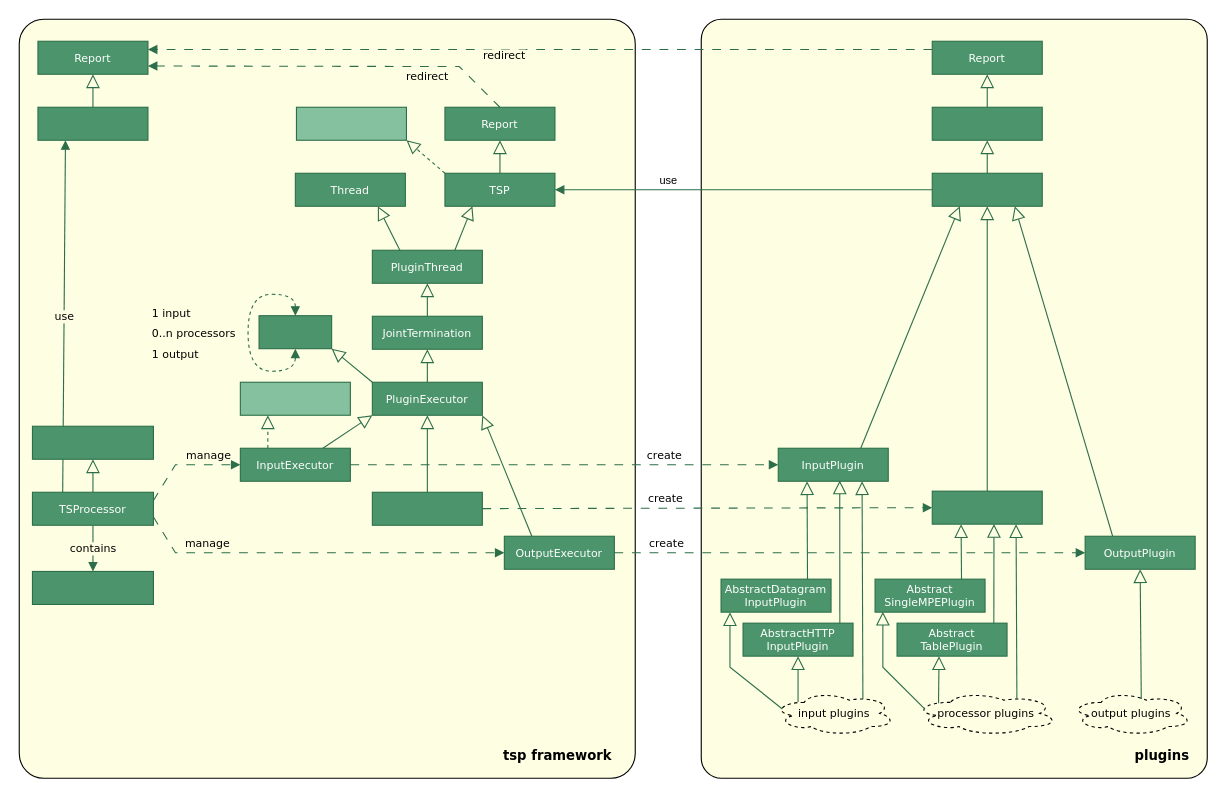
Image size: 1227x798. Some labels were removed from this diagram. Here are the shapes that lost their labels. From the top down, the box of each, then its label:
(37, 106, 148, 140): AsyncReport
(295, 106, 406, 140): AbortInterface
(931, 106, 1042, 140): Args
(931, 172, 1042, 206): Plugin
(258, 315, 332, 349): RingNode
(239, 381, 350, 415): WatchDogHandler Interface
(31, 425, 153, 459): PluginEventHandler Registry
(371, 491, 482, 525): ProcessorExecutor
(931, 490, 1042, 524): ProcessorPlugin
(31, 570, 153, 604): TSProcessorArgs
